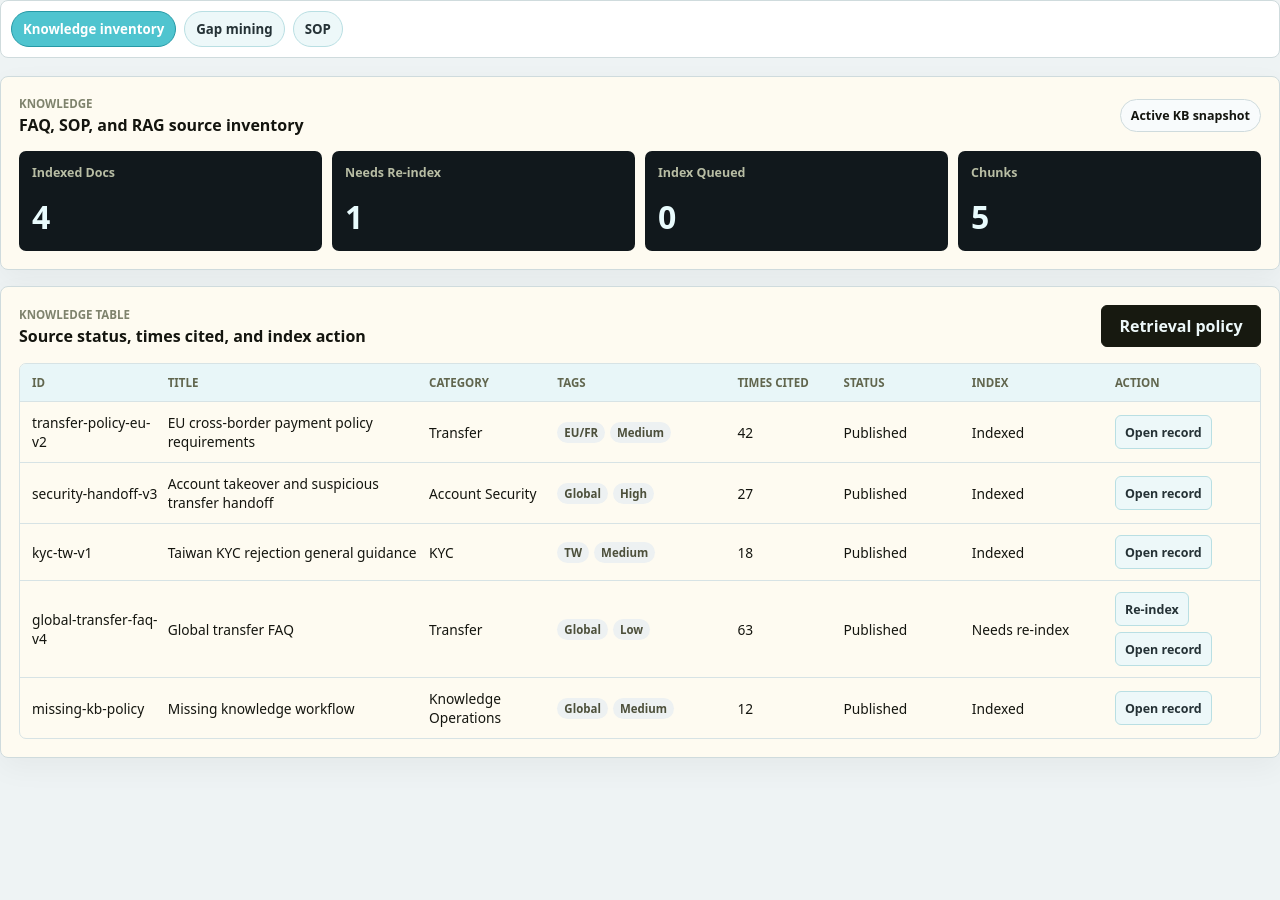
Test: KnowledgeBase inventory actions › shows only the selected document chunks in the drawer evidence block
Note: Clicking the table row opens the record drawer for that document.
Click the element with test id "knowledge-row-doc_transfer_policy_eu_v2" at (640, 433), box x1=20 y1=402 x2=1260 y2=464
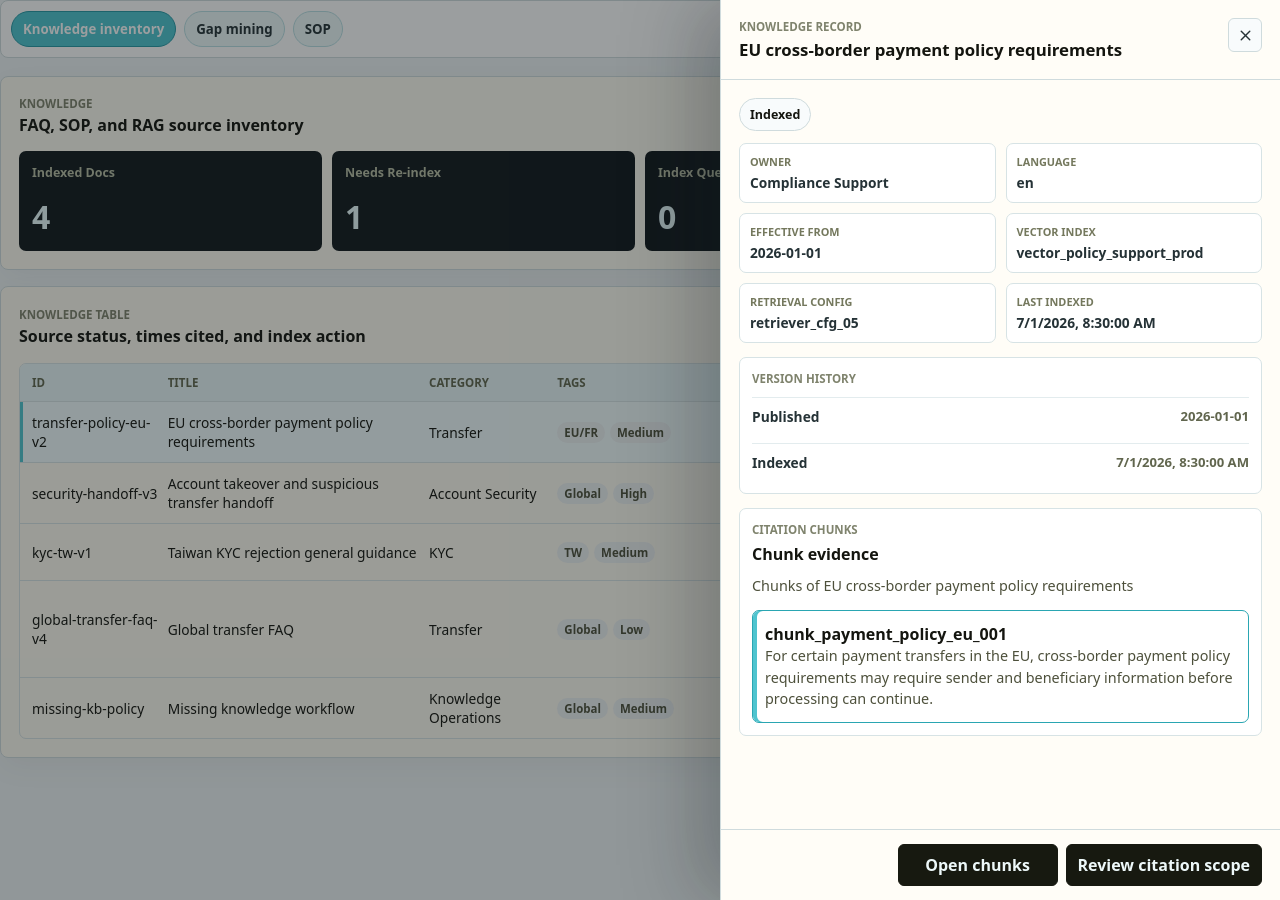
Expected: the text "chunk_payment_policy_eu_001" is shown, x1=765 y1=623 x2=1007 y2=645
